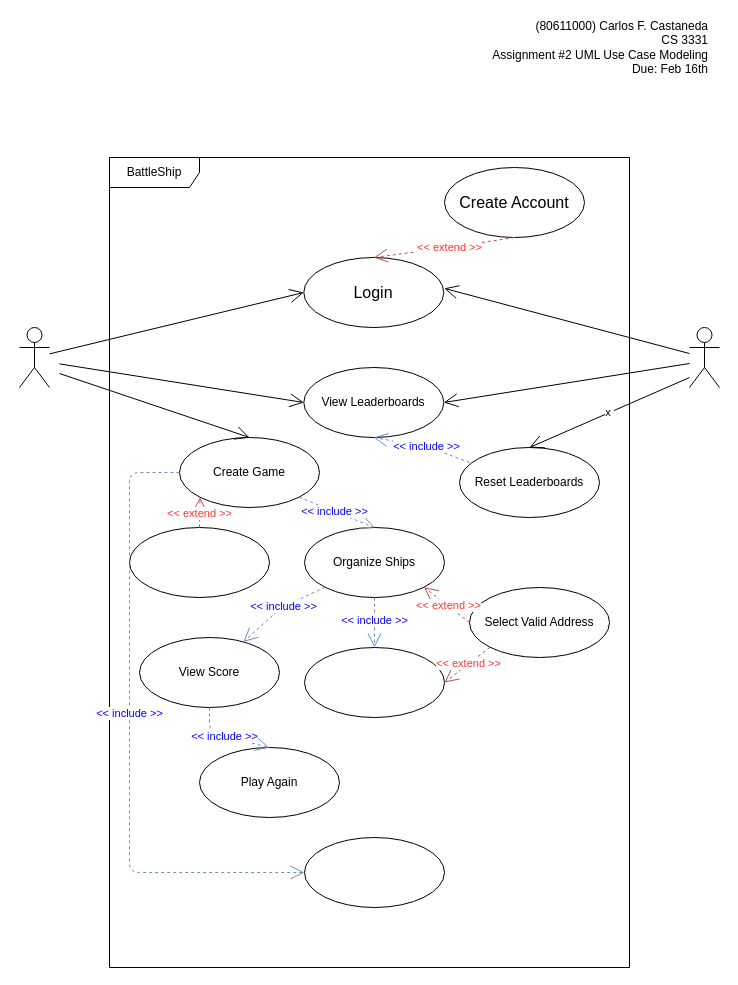
Some shapes in this 738 by 985 pixel diagram are drawn without their labels. Each missing label, with the centre of its shape:
Admin: (x=704, y=357)
Enter User Name: (x=199, y=562)
Exit Game: (x=374, y=872)
Player: (x=34, y=357)
Shoot Torpedo: (x=374, y=682)
